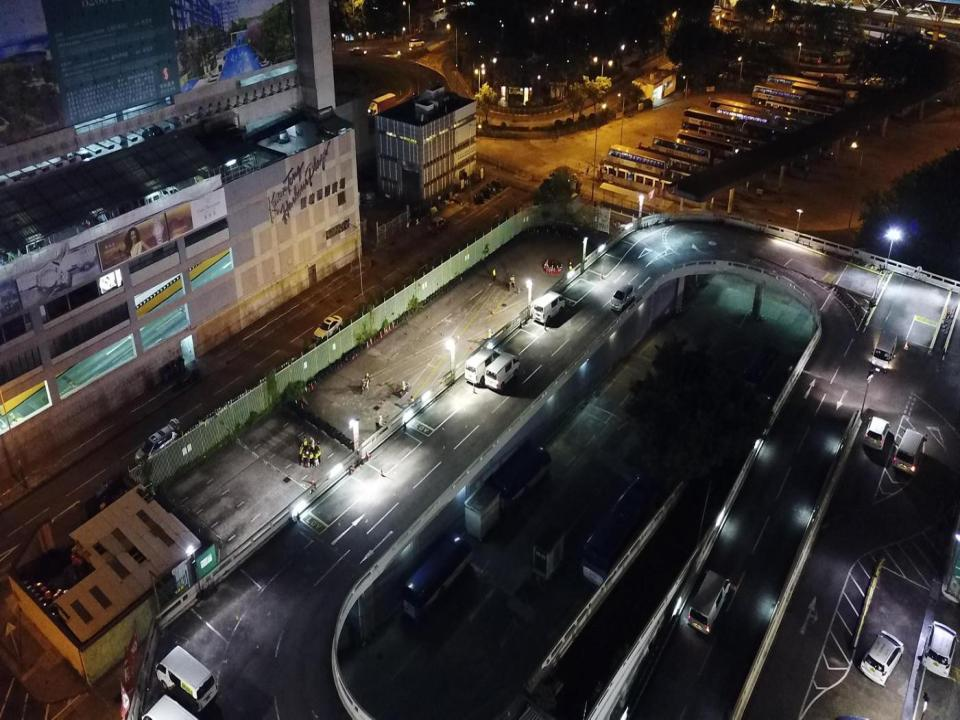bus: (580, 472, 665, 593), (401, 533, 473, 620), (491, 442, 551, 513), (606, 143, 670, 180), (676, 130, 738, 166), (652, 134, 714, 169), (680, 108, 740, 142), (764, 72, 819, 105), (710, 99, 771, 126), (751, 84, 810, 110), (926, 30, 947, 49), (798, 48, 822, 64), (830, 50, 851, 65)
car: (859, 629, 904, 687), (918, 620, 959, 679), (865, 416, 890, 450), (316, 316, 342, 342), (428, 216, 448, 234)
van: (155, 645, 218, 710), (688, 570, 730, 636), (134, 419, 182, 465), (893, 429, 926, 474), (464, 349, 503, 384), (485, 352, 520, 390), (871, 330, 897, 374), (533, 290, 566, 323), (611, 285, 636, 310), (711, 5, 721, 12)
